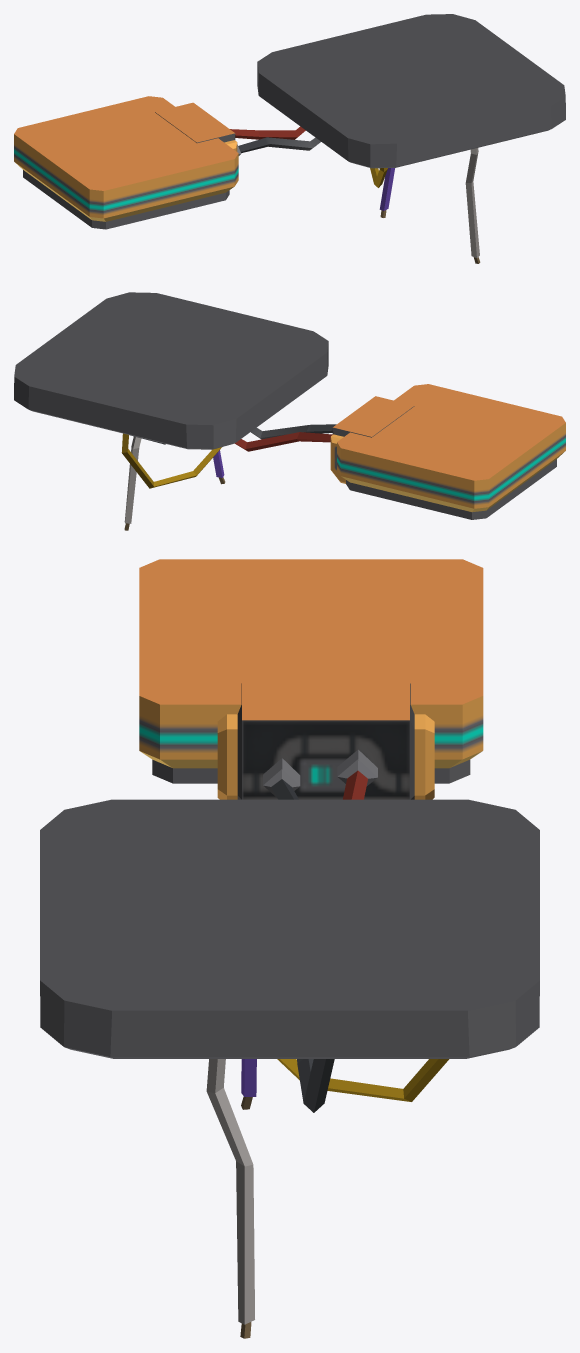
Rendered from SM_Prop_Wires_09.fbx.
3 views of the same model, one above another, from view 1: azimuth 30°, elevation 25°; view 2: azimuth 150°, elevation 25°; view 3: azimuth 270°, elevation 25° (orthographic). The views are drawn at different scales.
Parts seen in each view (by area): view 1: SM_Prop_Wires_09; view 2: SM_Prop_Wires_09; view 3: SM_Prop_Wires_09.
Part boxes in pixels (x1=…): SM_Prop_Wires_09: x1=14, y1=14, x2=565, y2=263; SM_Prop_Wires_09: x1=14, y1=292, x2=565, y2=530; SM_Prop_Wires_09: x1=40, y1=559, x2=539, y2=1338.
Bounding box in the file's own units: 238 × 93.42 × 111.
